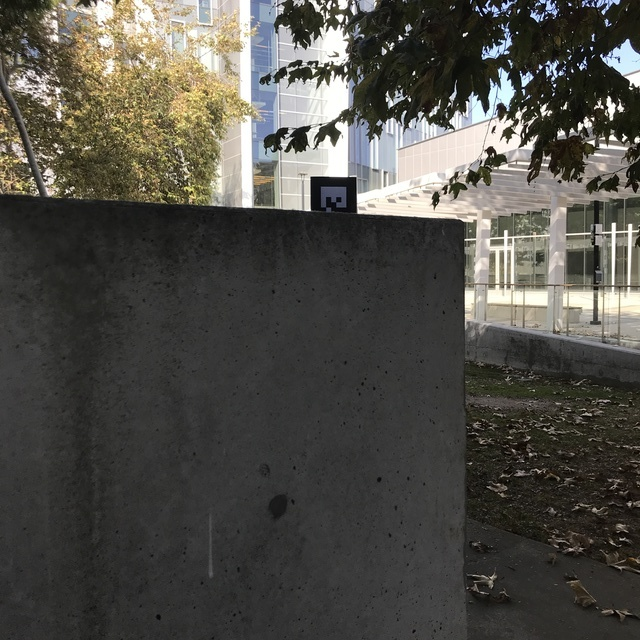ARTag: (309, 174, 358, 220)
